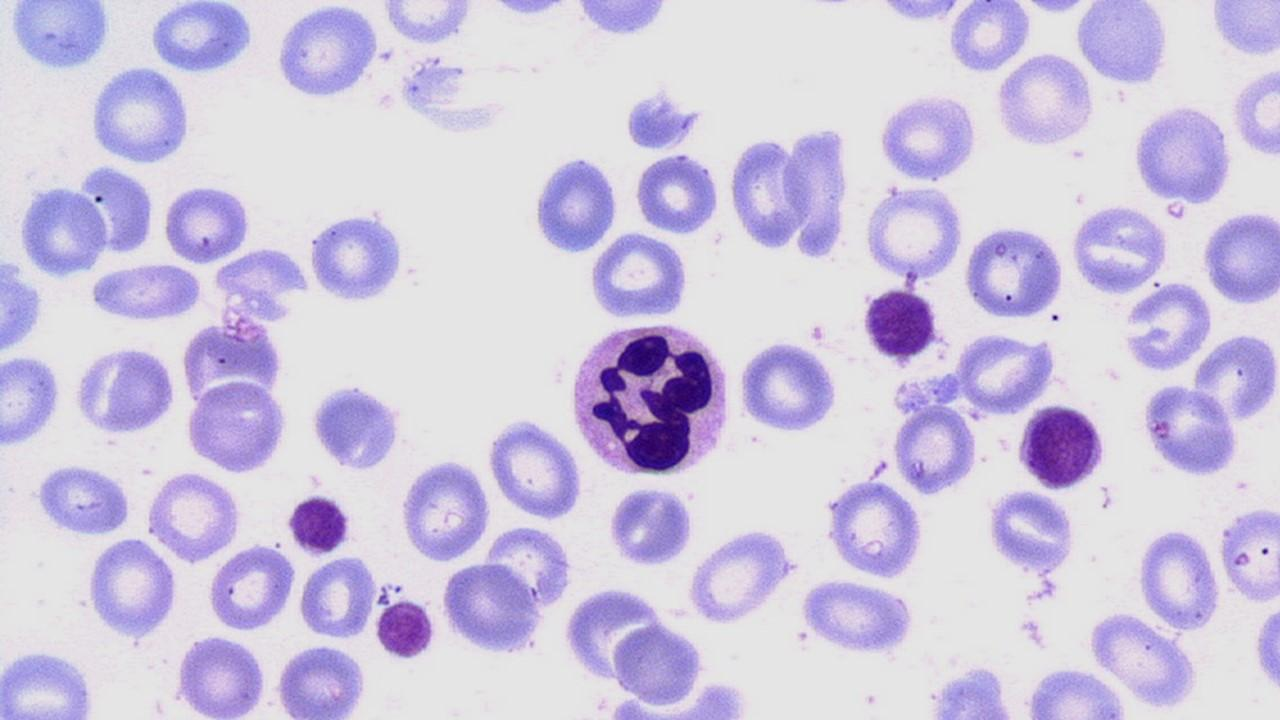Platelets: (372, 594, 440, 662), (286, 492, 351, 556), (622, 91, 686, 151), (1250, 596, 1280, 706), (664, 103, 706, 148), (1018, 0, 1090, 18), (1026, 583, 1058, 604), (1016, 616, 1044, 640)
RBC: (1084, 608, 1202, 710), (87, 62, 192, 168), (438, 558, 546, 660), (181, 377, 292, 476), (823, 474, 925, 581), (484, 417, 586, 521), (992, 50, 1098, 150), (398, 454, 495, 563), (736, 336, 842, 435), (1139, 377, 1239, 480), (862, 184, 966, 282), (876, 88, 982, 184), (795, 574, 916, 658), (84, 536, 180, 640), (69, 345, 176, 437), (530, 150, 620, 259), (726, 133, 808, 252), (586, 230, 692, 322), (146, 466, 245, 564), (1069, 201, 1171, 296), (17, 179, 109, 282), (1137, 524, 1223, 632), (483, 520, 576, 616), (1121, 280, 1213, 376), (956, 330, 1057, 416), (173, 630, 272, 716), (205, 543, 298, 634), (1193, 329, 1279, 424), (893, 402, 979, 496), (604, 482, 696, 569), (160, 179, 252, 266), (1201, 206, 1279, 308), (31, 461, 134, 538), (78, 159, 158, 258), (984, 488, 1078, 572), (633, 149, 722, 236), (271, 642, 372, 716), (0, 644, 102, 717), (296, 553, 375, 640), (1218, 502, 1280, 606), (1, 352, 64, 449), (1232, 60, 1280, 162), (370, 594, 438, 663)
WBC: (564, 316, 738, 482), (601, 619, 753, 715), (271, 1, 386, 107), (686, 522, 800, 628), (1129, 98, 1237, 206), (822, 474, 928, 582), (734, 332, 844, 436), (1089, 616, 1207, 712), (183, 376, 295, 476), (87, 63, 194, 167), (71, 339, 180, 438), (959, 224, 1067, 322), (306, 204, 409, 305), (725, 131, 809, 254), (879, 87, 984, 185), (781, 121, 854, 261), (994, 51, 1096, 151), (1140, 380, 1242, 479), (86, 536, 181, 642), (443, 566, 552, 658), (308, 378, 412, 474), (401, 453, 494, 560), (862, 187, 966, 282), (588, 231, 694, 324), (528, 151, 620, 258), (1071, 201, 1173, 297), (797, 578, 918, 658), (145, 467, 244, 564), (1122, 278, 1216, 378), (1136, 524, 1222, 633), (17, 180, 107, 281), (1014, 398, 1110, 492), (1194, 325, 1280, 428), (1073, 1, 1173, 89), (956, 330, 1059, 415), (146, 0, 257, 76), (210, 245, 315, 325), (160, 179, 256, 266), (605, 482, 699, 570), (4, 1, 116, 74), (87, 259, 205, 327), (986, 489, 1080, 574), (176, 636, 274, 716), (0, 644, 102, 718), (272, 640, 371, 716), (77, 163, 156, 257), (861, 282, 942, 365), (0, 350, 65, 452), (945, 0, 1034, 74), (1022, 664, 1131, 718), (922, 661, 1022, 718), (1230, 60, 1280, 163), (1, 252, 48, 360), (285, 490, 353, 560), (372, 594, 438, 664), (1205, 1, 1279, 62), (376, 1, 480, 44), (560, 1, 684, 37), (1250, 588, 1280, 708)
